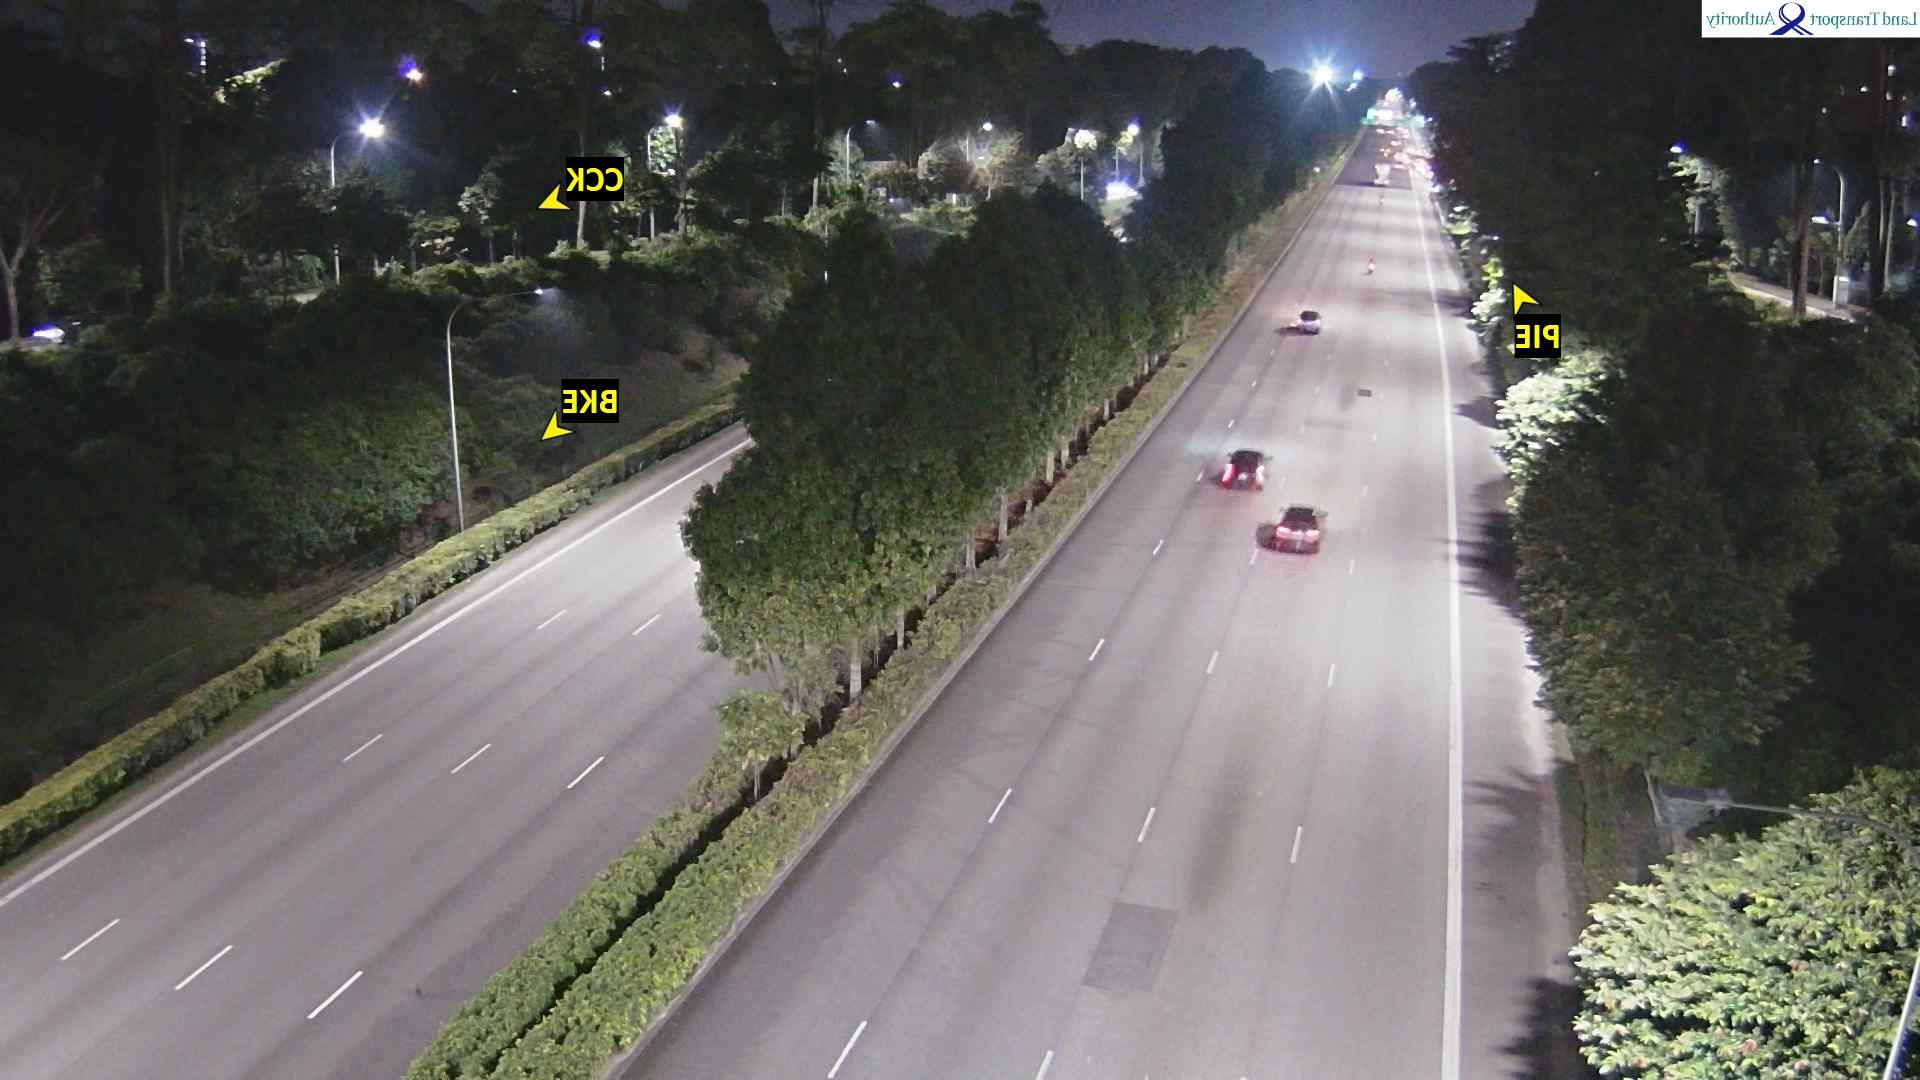cars: (1273, 502, 1329, 554), (1220, 448, 1269, 491), (1298, 309, 1323, 334), (1374, 162, 1393, 185)
motorcycle: (1360, 252, 1378, 274)
